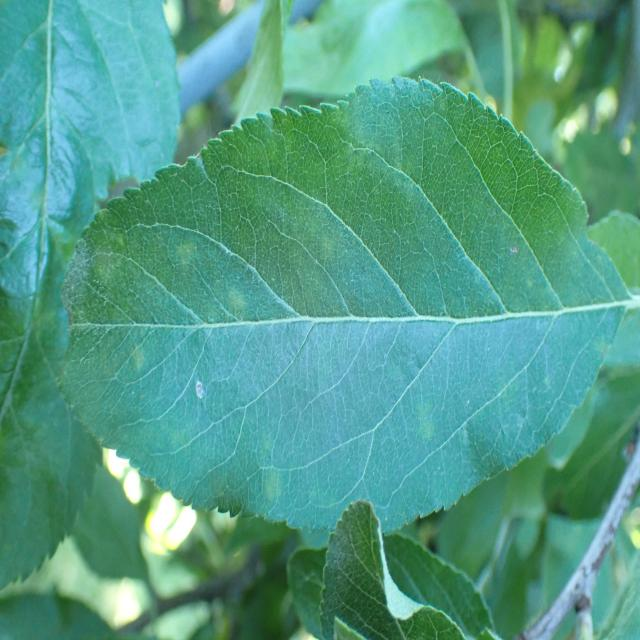scab: (66, 139, 606, 486)
